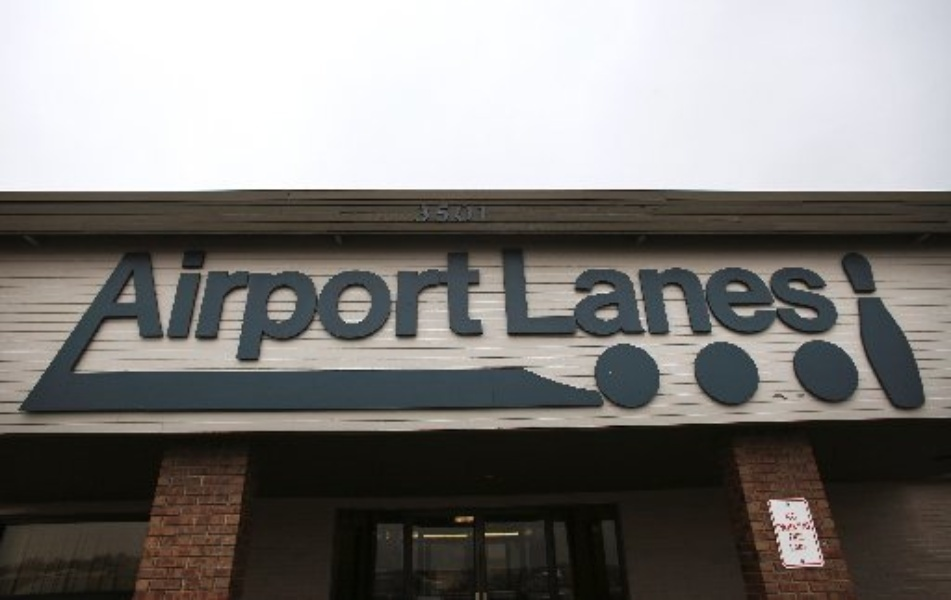text: (129, 248, 144, 363), (145, 248, 160, 363), (161, 248, 176, 363), (177, 248, 192, 363), (193, 248, 208, 363), (209, 248, 224, 363), (225, 248, 240, 363), (241, 248, 256, 363), (257, 248, 272, 363), (273, 248, 288, 363), (289, 248, 304, 363), (305, 248, 320, 363), (321, 248, 336, 363), (337, 248, 352, 363), (353, 248, 368, 363), (369, 248, 384, 363), (385, 248, 400, 363), (401, 248, 416, 363), (417, 248, 432, 363), (433, 248, 448, 363), (449, 248, 464, 363), (465, 248, 480, 363), (513, 244, 528, 339), (529, 244, 544, 339), (545, 244, 560, 339), (561, 244, 576, 339), (577, 244, 592, 339), (593, 244, 608, 339), (609, 244, 624, 339), (625, 244, 640, 339), (641, 244, 656, 339), (657, 244, 672, 339), (673, 244, 688, 339), (689, 244, 704, 339), (705, 244, 720, 339), (721, 244, 736, 339), (737, 244, 752, 339), (753, 244, 768, 339), (769, 244, 784, 339), (785, 244, 800, 339), (801, 244, 816, 339), (817, 244, 832, 339), (498, 244, 512, 339), (833, 244, 847, 339), (481, 248, 491, 363), (123, 248, 128, 363), (417, 205, 432, 225), (433, 205, 448, 225), (449, 205, 464, 225), (465, 205, 480, 225), (481, 205, 491, 225), (415, 205, 416, 225)
